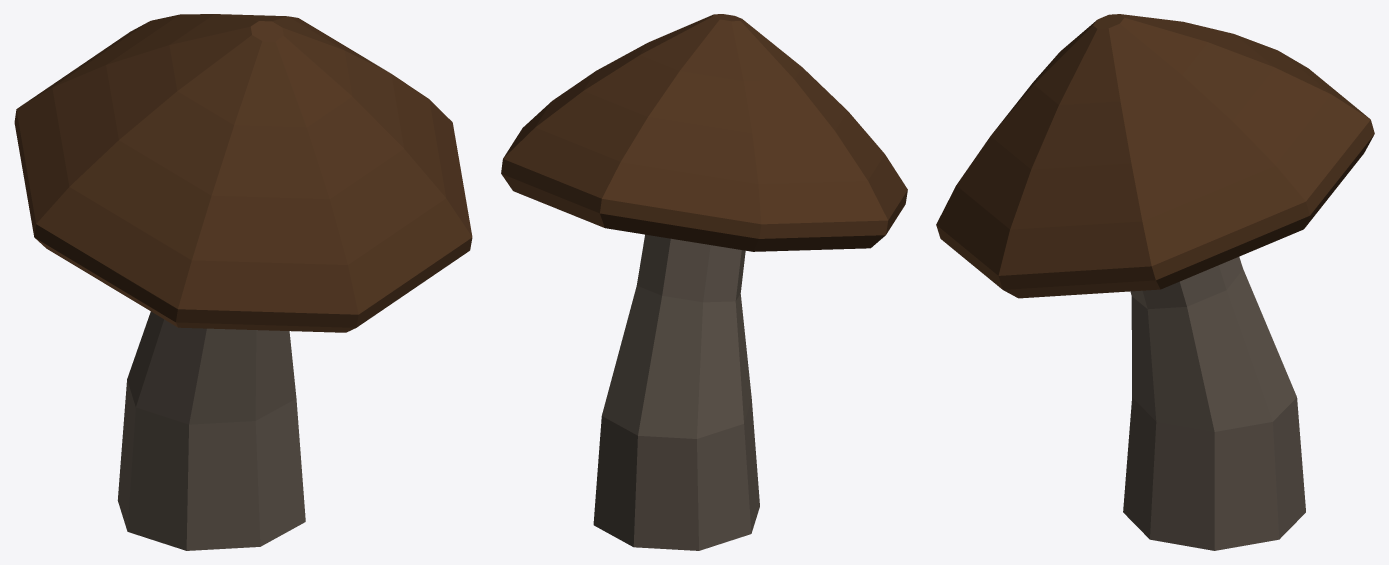
File: Mushroom2.fbx
3 renders of one model, left to right at view 1: azimuth 30°, elevation 25°; view 2: azimuth 150°, elevation 25°; view 3: azimuth 270°, elevation 25°, orthographic. The views are drawn at different scales.
Parts seen in each view (by area): view 1: Circle; view 2: Circle; view 3: Circle.
Part boxes in pixels (<box>): Circle: <box>14,14,472,550</box>; Circle: <box>501,14,907,550</box>; Circle: <box>936,14,1374,550</box>.
Size of the model in its own units: 178 by 216 by 174.
